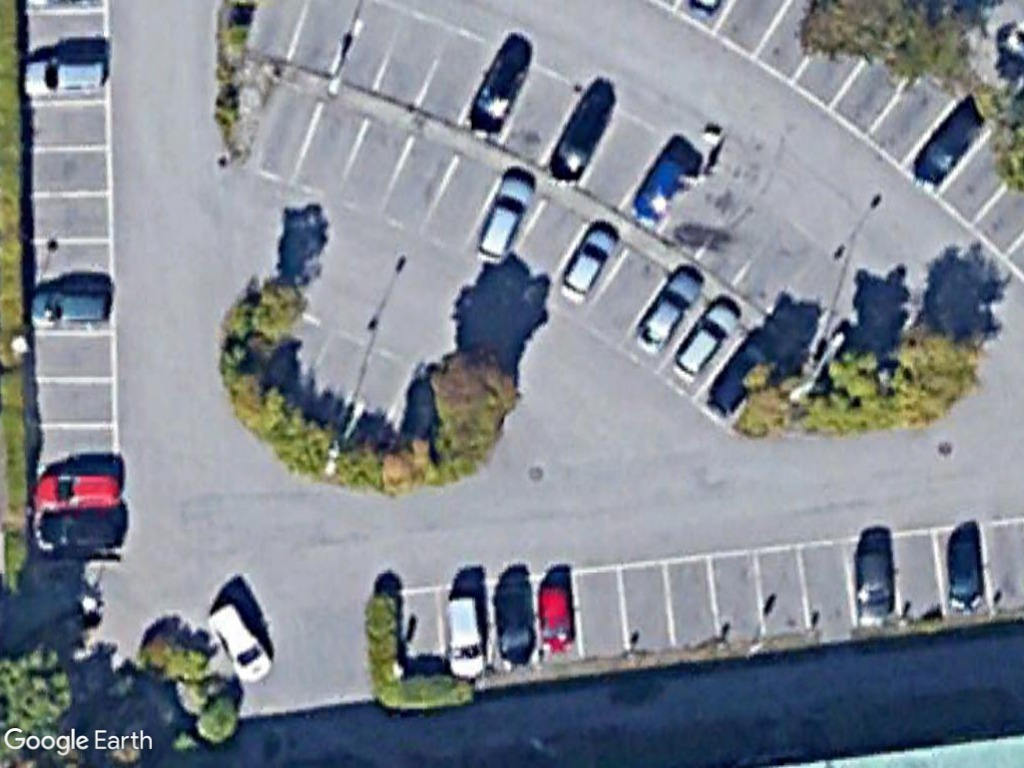car: (544, 87, 620, 189), (909, 98, 989, 192), (622, 137, 702, 229), (666, 293, 744, 386), (464, 47, 539, 141), (631, 263, 707, 353), (471, 170, 539, 270), (556, 222, 623, 303), (31, 464, 131, 517), (20, 48, 116, 103), (489, 574, 539, 673), (21, 280, 119, 329), (850, 537, 899, 626), (942, 530, 988, 617), (533, 573, 580, 656)
van: (206, 596, 275, 687), (441, 586, 491, 684)
